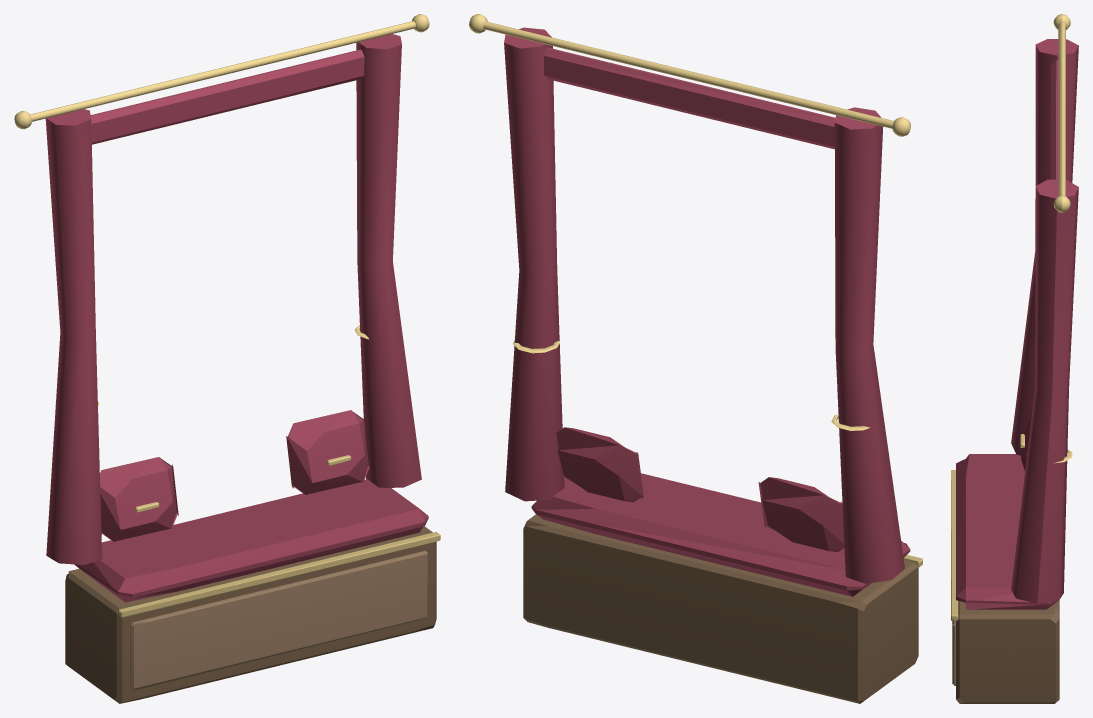
File: kajuete_fensterbank.glb
The picture shows the model from 3 angles, left to right: view 1: azimuth 30°, elevation 25°; view 2: azimuth 150°, elevation 25°; view 3: azimuth 270°, elevation 25°; orthographic projection. The views are drawn at different scales.
Visible parts, largest first — view 1: G_kajuete_fensterbank; view 2: G_kajuete_fensterbank; view 3: G_kajuete_fensterbank.
Boxes of the visible parts, x1,y1,x2,y2 form: G_kajuete_fensterbank: (14,14,440,703); G_kajuete_fensterbank: (469,14,922,703); G_kajuete_fensterbank: (951,14,1078,703).
Size of the model in its own units: 1.81 by 2.36 by 0.5177.
